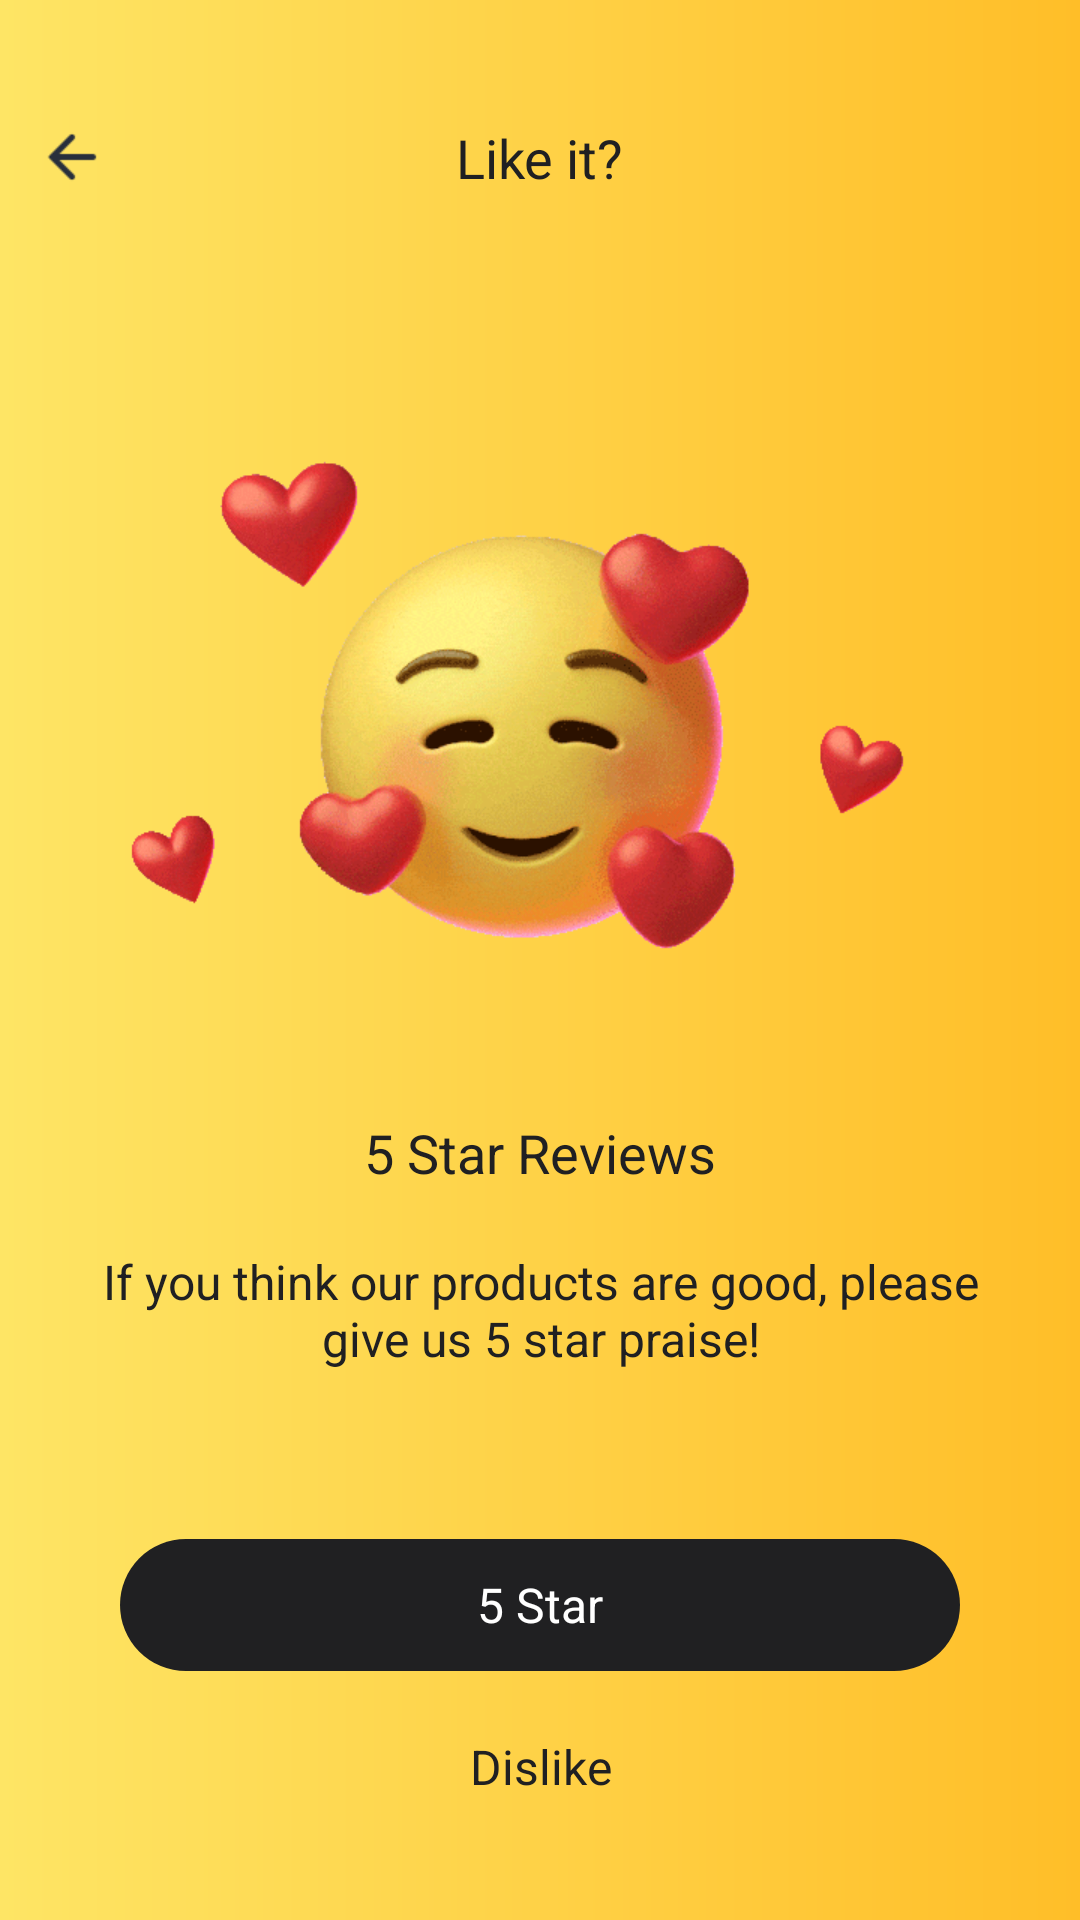

Screen size 1080 x 1920. Icon name, then its center in pixels as point (x, y):
mip back: point (72, 157)
